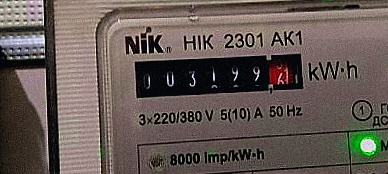0: (164, 69, 175, 88), (141, 71, 150, 89)
1: (207, 65, 217, 83)
3: (186, 68, 196, 89)
6: (274, 70, 284, 85)
9: (228, 63, 239, 83), (250, 64, 261, 82)
screen: (126, 44, 310, 105)
